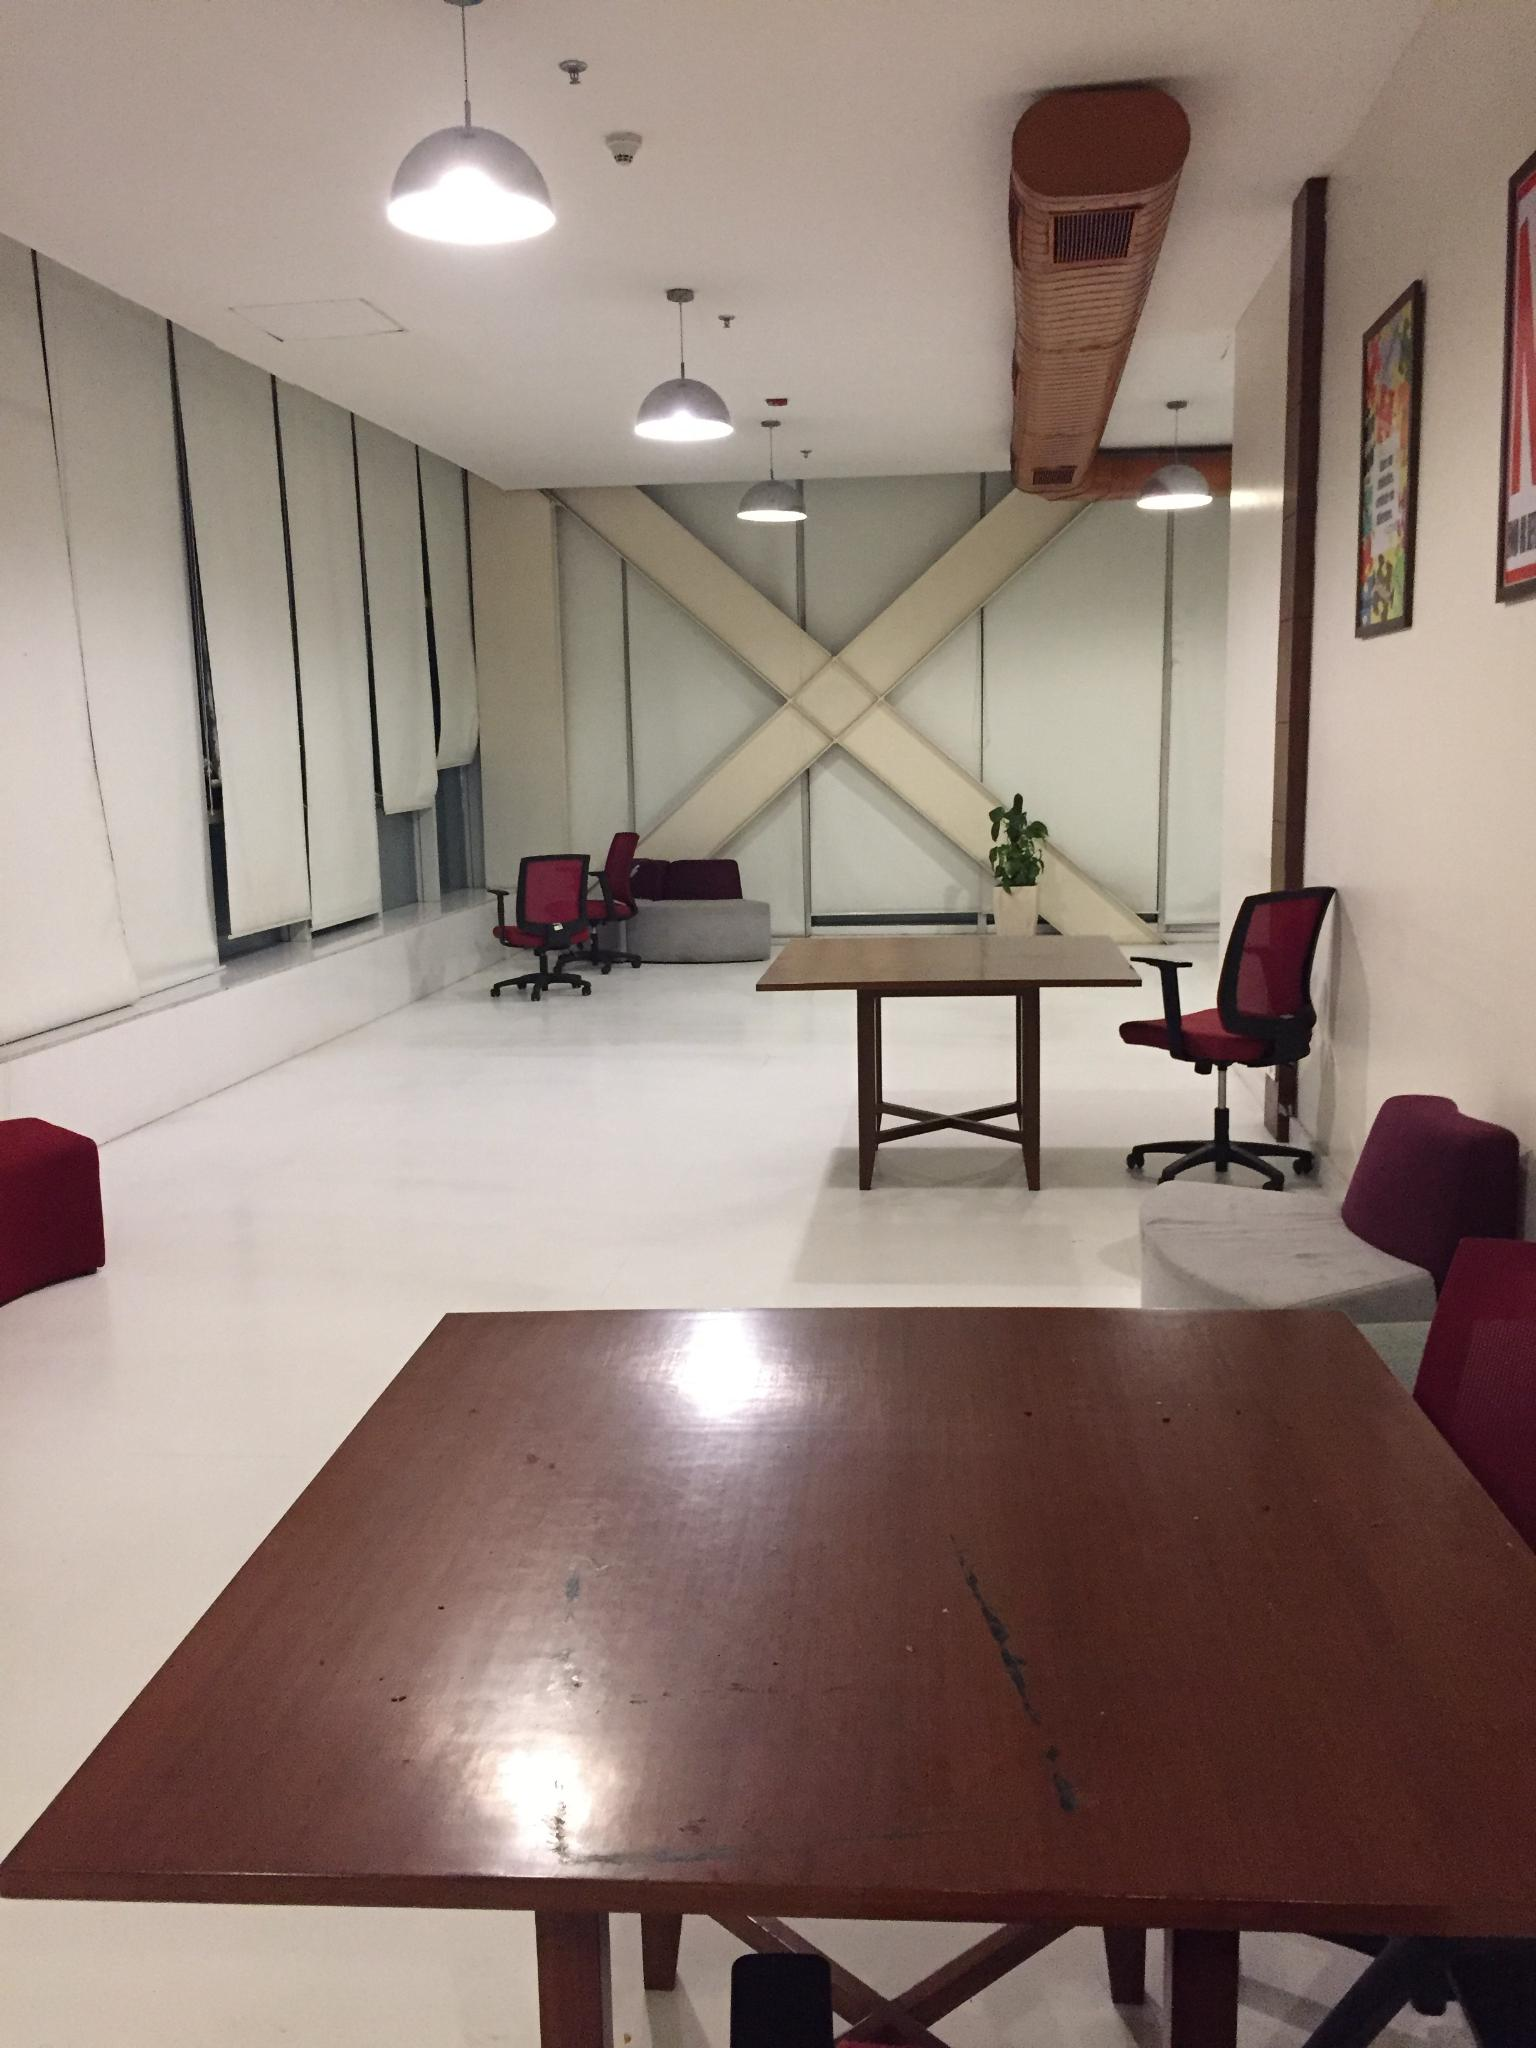chair: (1439, 1219, 1536, 2048), (1118, 884, 1336, 1190), (487, 853, 594, 1001), (581, 830, 641, 971)
